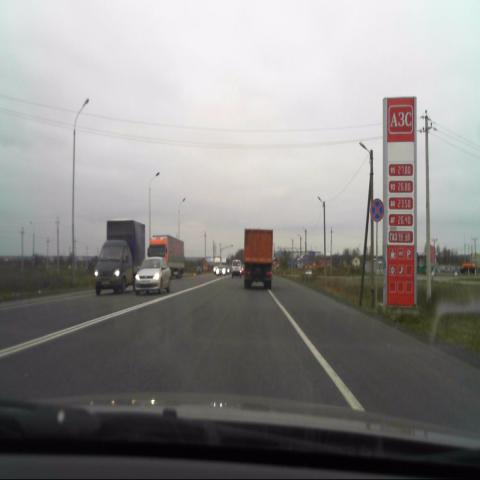3_27: (368, 196, 385, 222)
